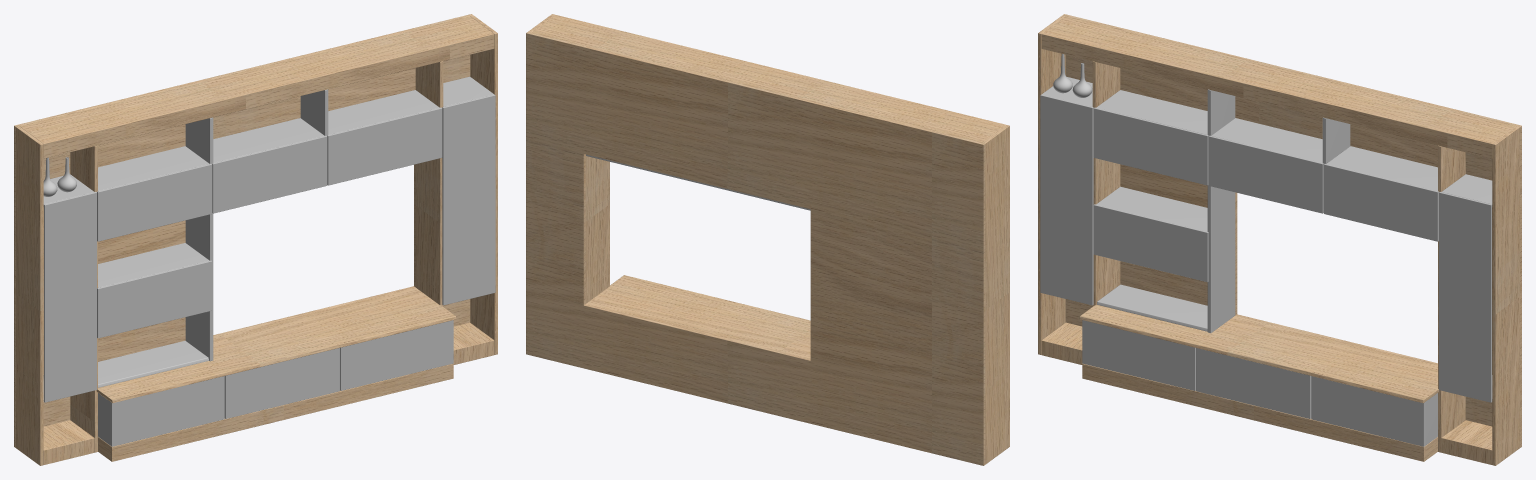
The model's file is 3D TV White Cabinet.fbx.
3 views of the same model, side by side, from view 1: azimuth 30°, elevation 25°; view 2: azimuth 150°, elevation 25°; view 3: azimuth 330°, elevation 25° (orthographic).
Visible parts, largest first — view 1: guizi03:pCube31_1002; view 2: guizi03:pCube31_1002; view 3: guizi03:pCube31_1002.
Boxes of the visible parts, bbox=[...] form: guizi03:pCube31_1002: bbox=[14, 14, 497, 465]; guizi03:pCube31_1002: bbox=[526, 14, 1009, 465]; guizi03:pCube31_1002: bbox=[1038, 14, 1521, 465].
Size of the model in its own units: 300 by 201 by 47.27.
